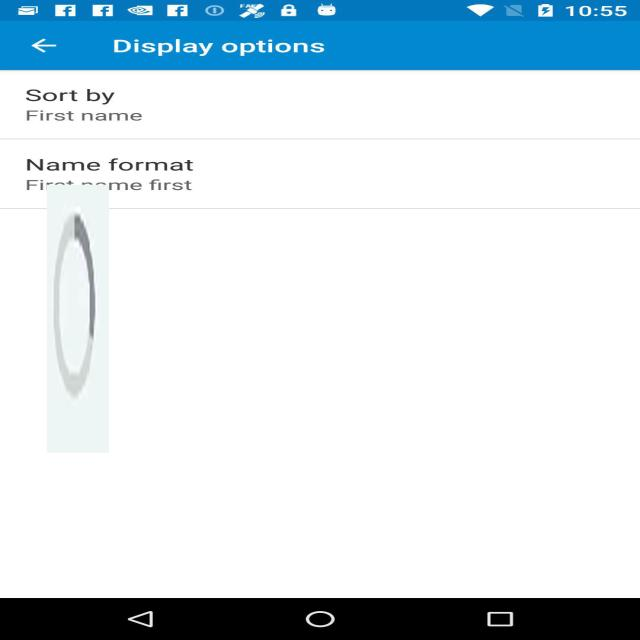misdirection: (47, 185, 109, 452)
